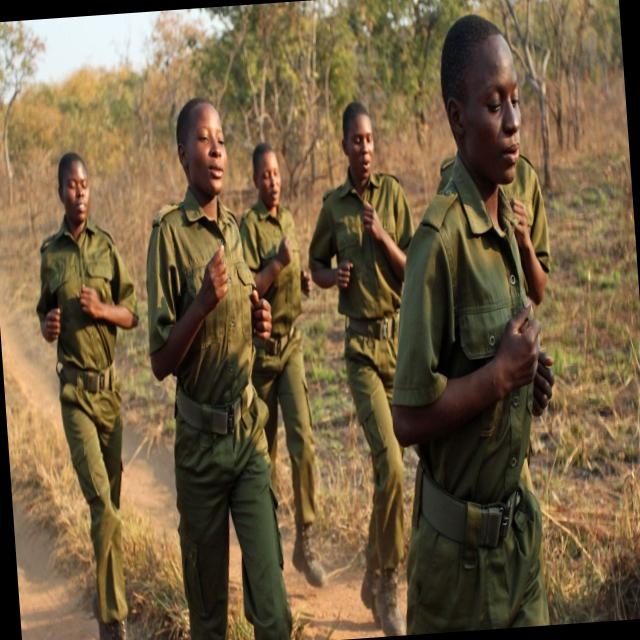ranger: (397, 6, 574, 515), (132, 103, 292, 604), (19, 121, 159, 633), (298, 86, 419, 574)
